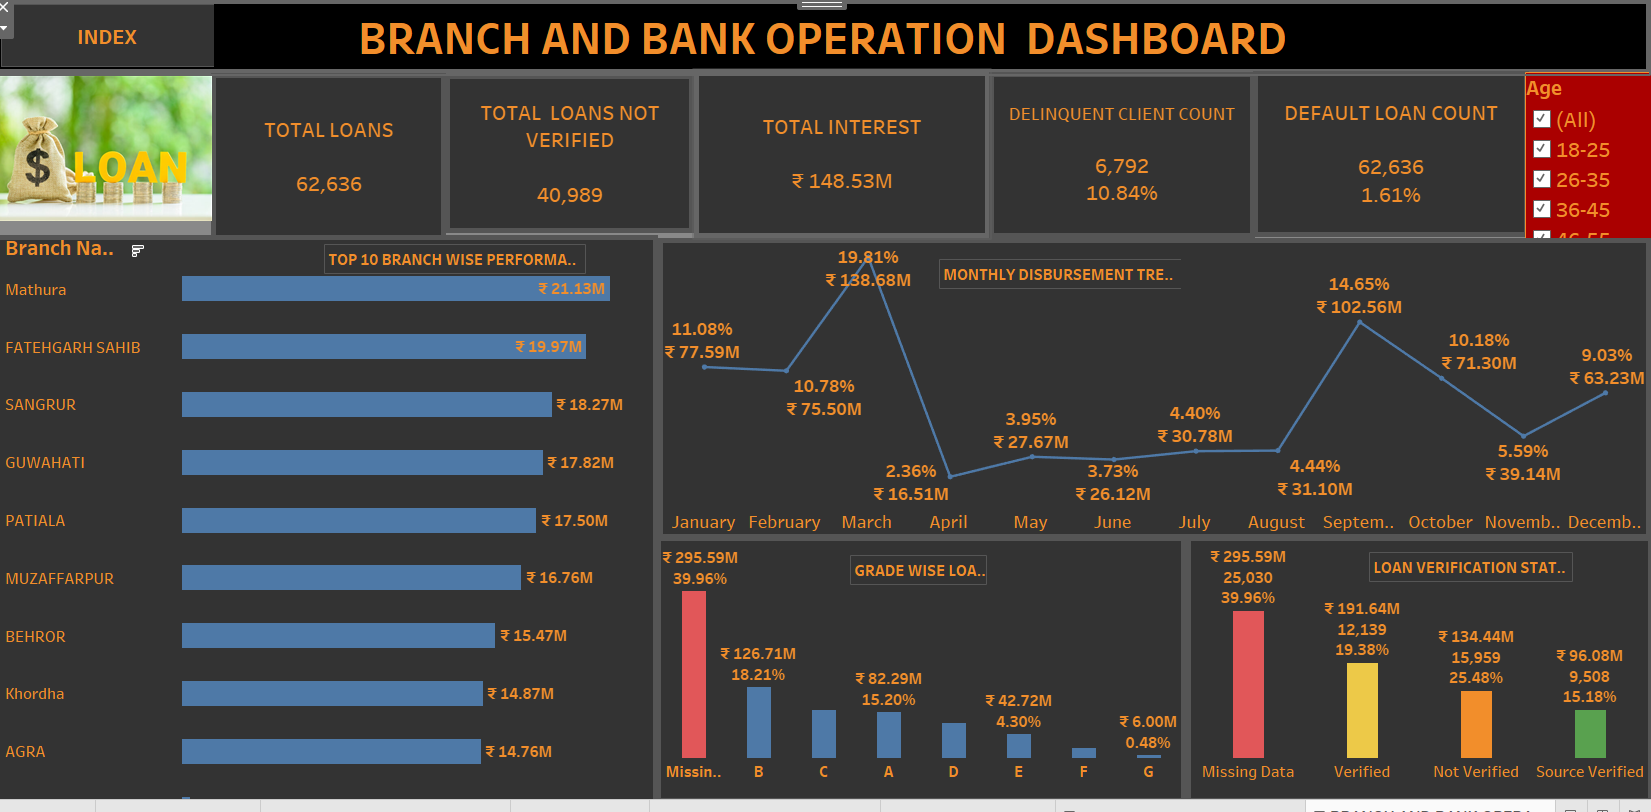

Layout of this report page (visuals, bound fields, positions):
{"tool":"tableau","page":{"name":"BRANCH AND BANK OPERATIONS DASHBOARD","canvas":[1000,1000],"units":"permille","ordinal":0},"visuals":[{"type":"text","box":[0,2.5,1000,93.6]},{"type":"dashboard-object","box":[4.1,8.7,128.9,78.7]},{"type":"title","box":[4.8,10,990.3,62.4]},{"type":"worksheet","title":"KPI-4","mark":"Automatic","box":[422.7,91.1,178.5,209.7]},{"type":"worksheet","title":"DEFAULT LOAN COUNT","mark":"Automatic","box":[759.5,92.4,166.8,207.2]},{"type":"worksheet","title":"DELINQUENT CLIENT COUNT","mark":"Automatic","box":[600.6,93.6,160.5,207.2]},{"type":"worksheet","title":"KPI-2","mark":"Automatic","box":[131.2,94.9,141.8,208.5]},{"type":"worksheet","title":"LOANS NOT VERIFIED","mark":"Automatic","box":[272.2,96.1,150.4,198.5]},{"type":"worksheet","title":"MONTHLY DISBURSEMENT TREND","mark":"Automatic","rows":["Funded_Amount"],"cols":["Disbursement_Date"],"box":[400.9,300.9,599.1,375.8]},{"type":"text","box":[199.2,308.4,158.4,37.5]},{"type":"text","box":[570,327.1,146.5,37.5]},{"type":"text","box":[830.1,692.9,123,37.5]},{"type":"text","box":[516.7,696.6,82.6,37.5]}]}

Visuals, with their boxes on the dashboard's canvas, which has no fixed pixel size, in thousandths of its width and height (x1, y1, x2, y2). These are canvas units, not pixel positions in the 1651x812 screenshot, which may show the page scaled, cropped or inside an application window:
text: [left=0, top=2, right=1000, bottom=96]
dashboard-object: [left=4, top=9, right=133, bottom=87]
title: [left=5, top=10, right=995, bottom=72]
"KPI-4" worksheet: [left=423, top=91, right=601, bottom=301]
"DEFAULT LOAN COUNT" worksheet: [left=760, top=92, right=926, bottom=300]
"DELINQUENT CLIENT COUNT" worksheet: [left=601, top=94, right=761, bottom=301]
"KPI-2" worksheet: [left=131, top=95, right=273, bottom=303]
"LOANS NOT VERIFIED" worksheet: [left=272, top=96, right=423, bottom=295]
"MONTHLY DISBURSEMENT TREND" worksheet: [left=401, top=301, right=1000, bottom=677]
text: [left=199, top=308, right=358, bottom=346]
text: [left=570, top=327, right=716, bottom=365]
text: [left=830, top=693, right=953, bottom=730]
text: [left=517, top=697, right=599, bottom=734]
